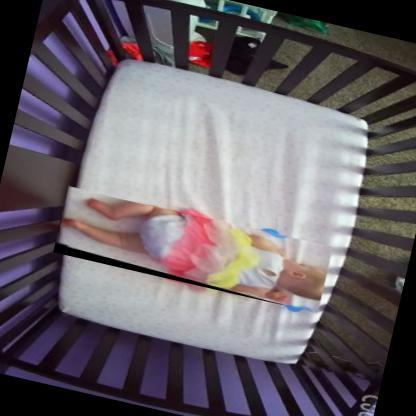baby: (61, 198, 325, 303)
